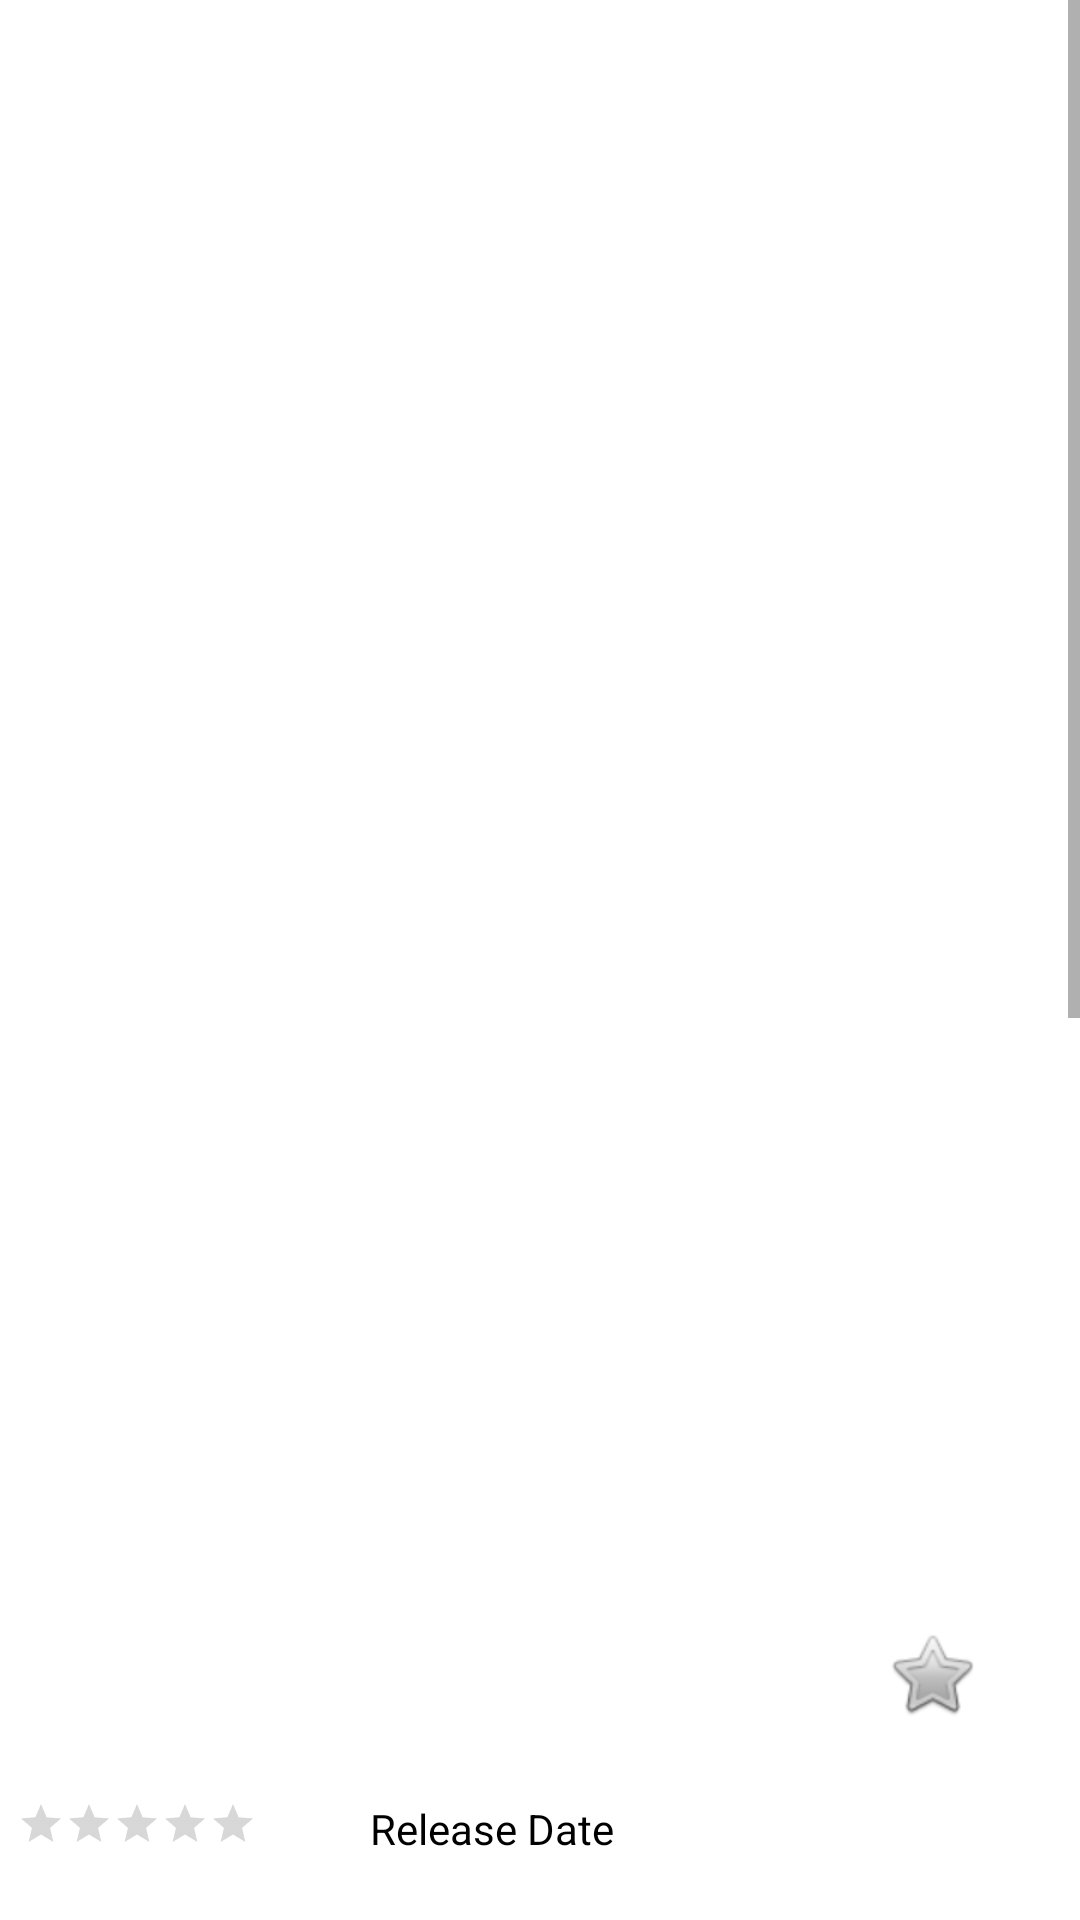

Locate icon controls on the screen. Image size 1080px×1920px, boxes as (x1, y1, x2, y2).
Favourite Button: (893, 1636, 973, 1714)
